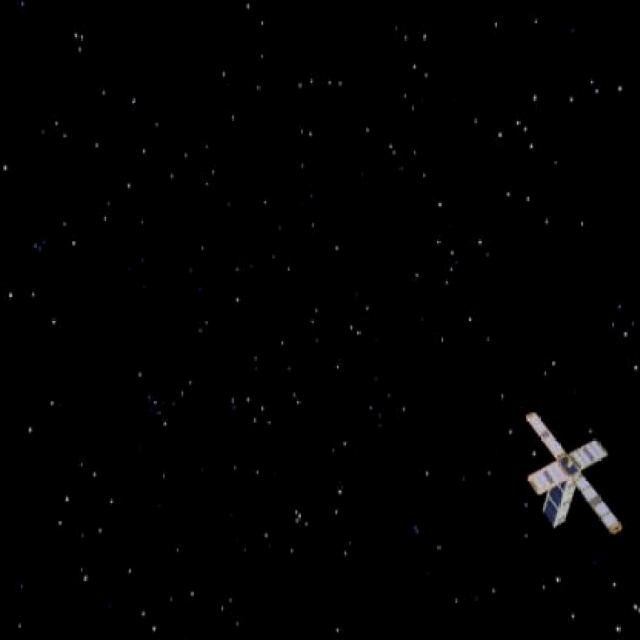medium_debris: (513, 406, 632, 544)
